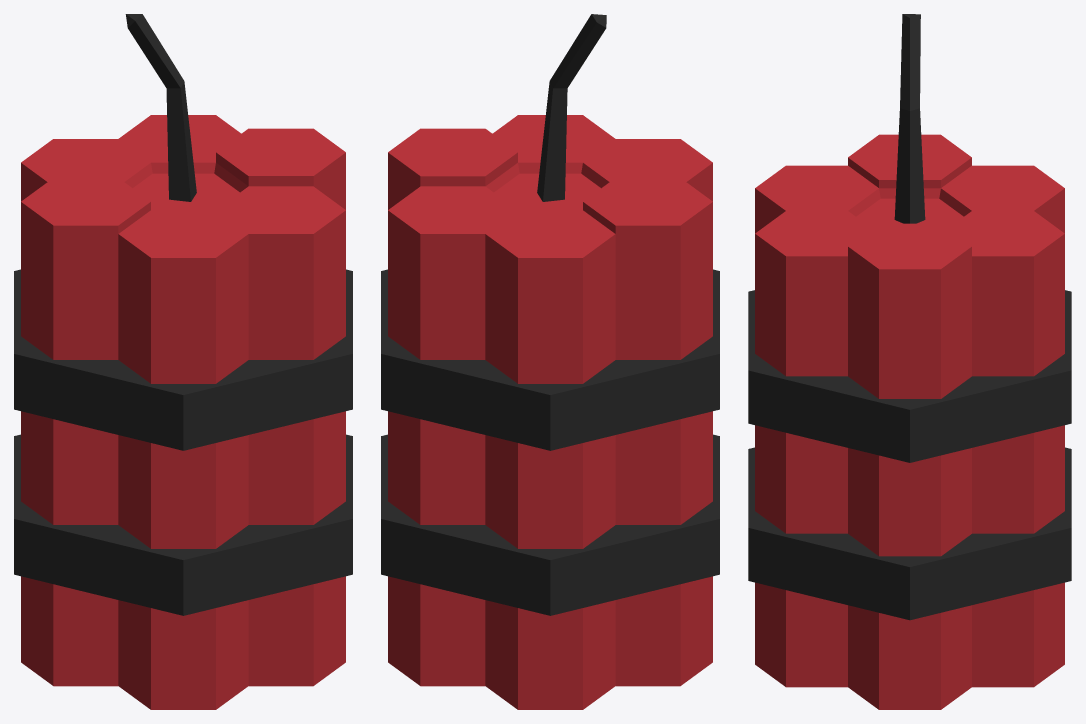
The model's file is dynamite-pack.glb.
3 views of the same model, side by side, from view 1: azimuth 30°, elevation 25°; view 2: azimuth 150°, elevation 25°; view 3: azimuth 270°, elevation 25° (orthographic). The views are drawn at different scales.
Visible parts, largest first — view 1: dynamite-pack; view 2: dynamite-pack; view 3: dynamite-pack.
Boxes of the visible parts, <box> form: dynamite-pack: <box>14,14,352,709</box>; dynamite-pack: <box>381,14,719,709</box>; dynamite-pack: <box>748,14,1071,709</box>.
Size of the model in its own units: 0.2746 by 0.4951 by 0.2378.
Materials: 1 (1 with a texture image).
